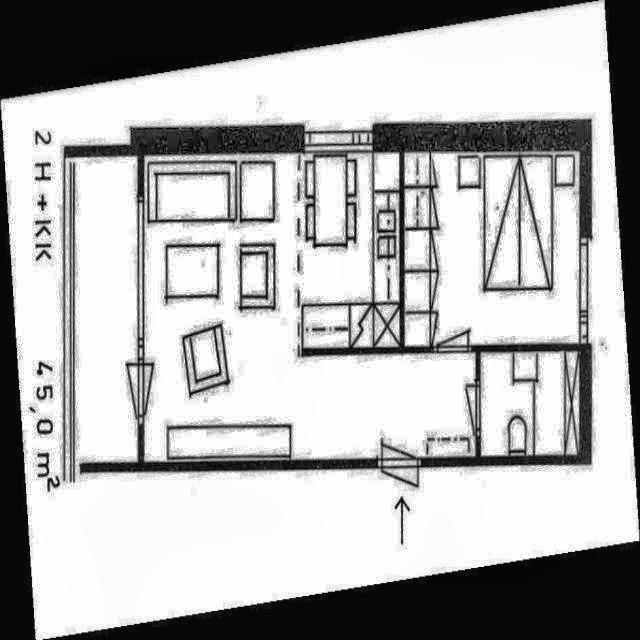room: (405, 152, 580, 346), (481, 351, 580, 456)
